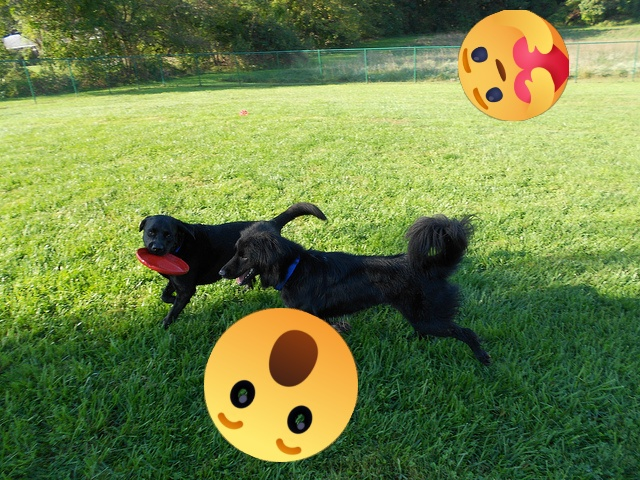care: (458, 10, 569, 121)
wow: (204, 308, 358, 462)
